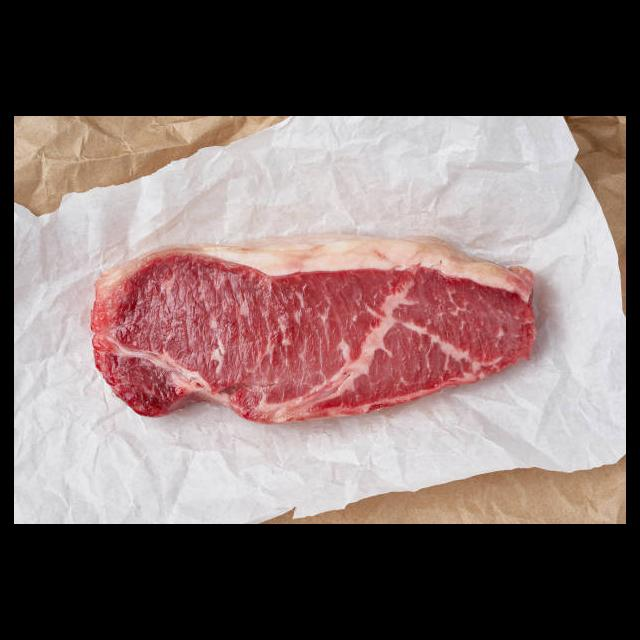beef: (90, 236, 539, 423)
